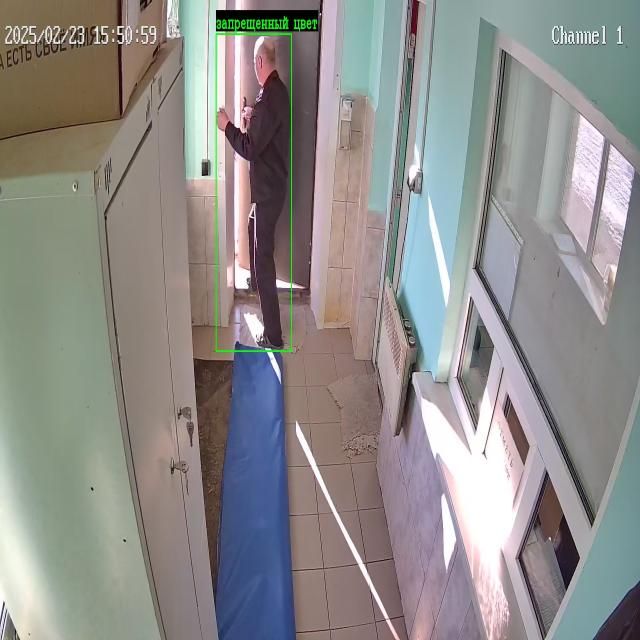Person: (217, 36, 290, 348)
